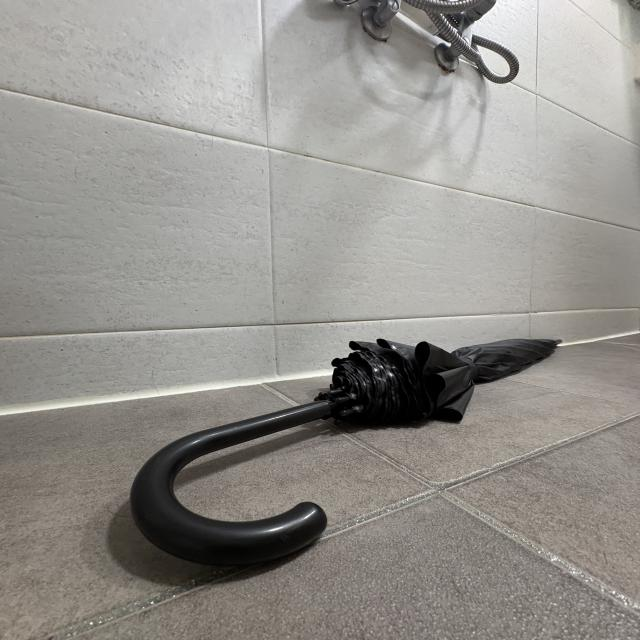umbrella: (129, 335, 566, 559)
